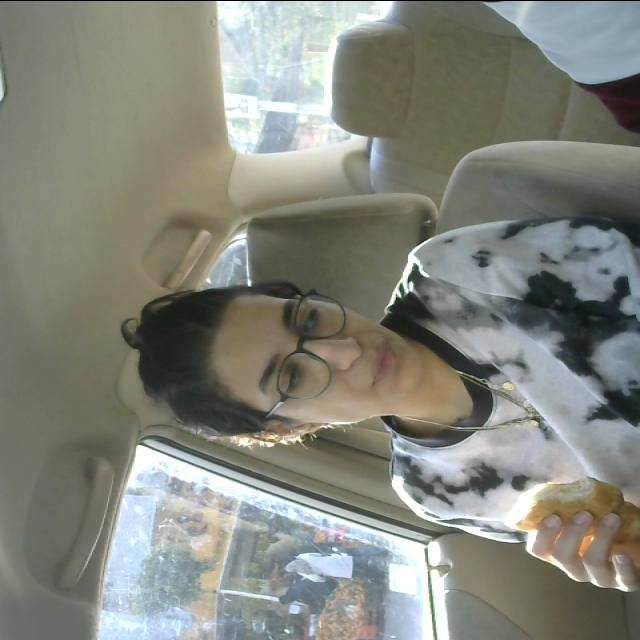eating: (508, 477, 640, 547)
